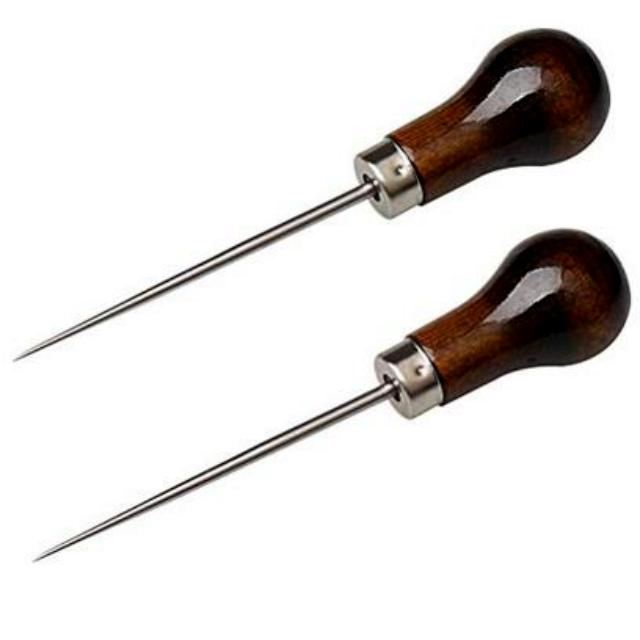ice pick: (11, 22, 619, 368), (31, 222, 639, 568)
